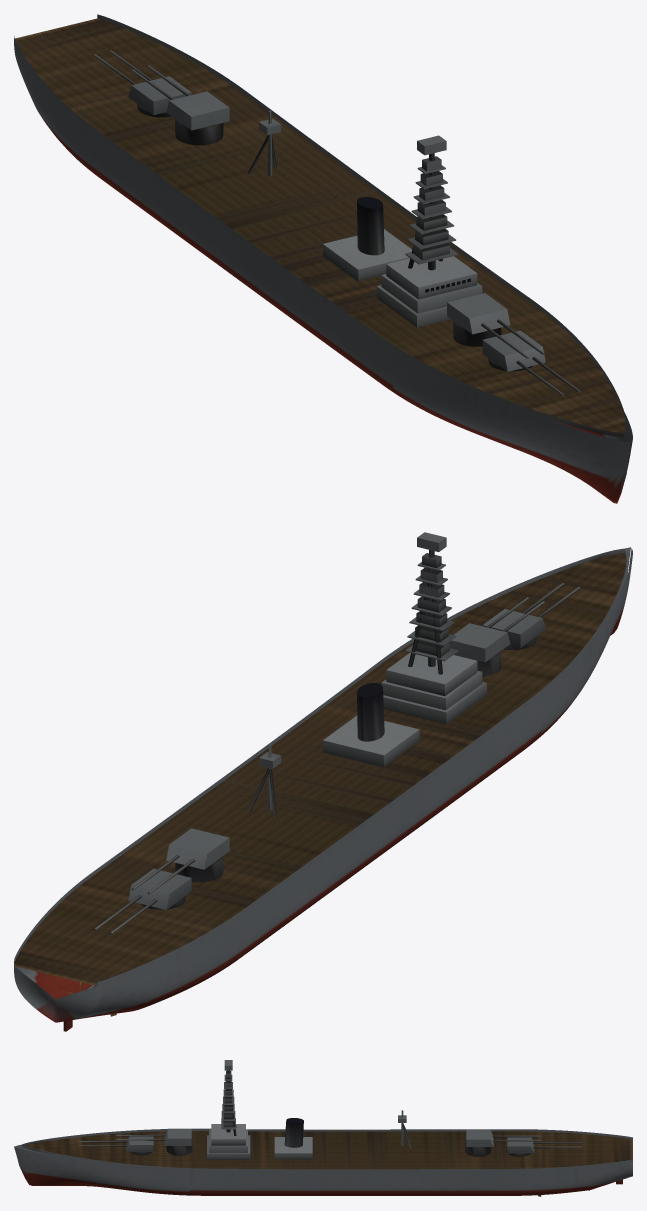
The model's file is model_built.glb.
3 views of the same model, one above another, from view 1: azimuth 30°, elevation 25°; view 2: azimuth 150°, elevation 25°; view 3: azimuth 270°, elevation 25° (orthographic). The views are drawn at different scales.
Visible parts, largest first — view 1: main; view 2: main; view 3: main.
Boxes of the visible parts, left/top/right/bottom form: main: left=14, top=14, right=632, bottom=503; main: left=14, top=532, right=632, bottom=1031; main: left=14, top=1060, right=632, bottom=1196.
Bounding box in the file's own units: 34.6 × 50.01 × 228.
2 materials, 2 textured.
